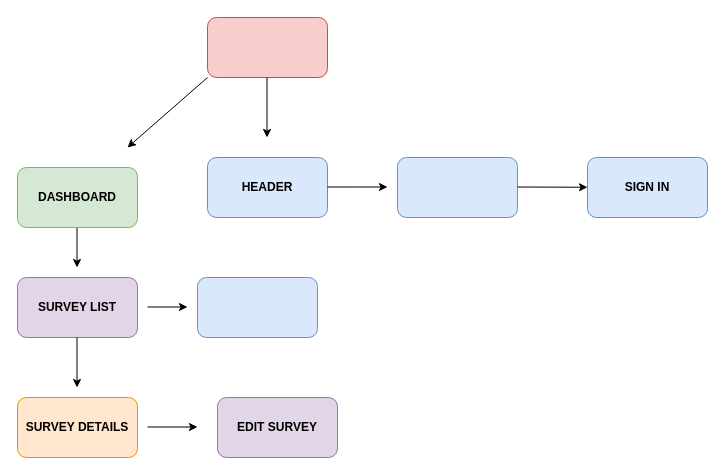
Image size: 725x475. Some labels were removed from this diagram. The centre of each missing label's shape, as x and y in pixels:
APP: point 267,47
NEW SURVEY: point 257,307
SIGN UP: point 457,187
